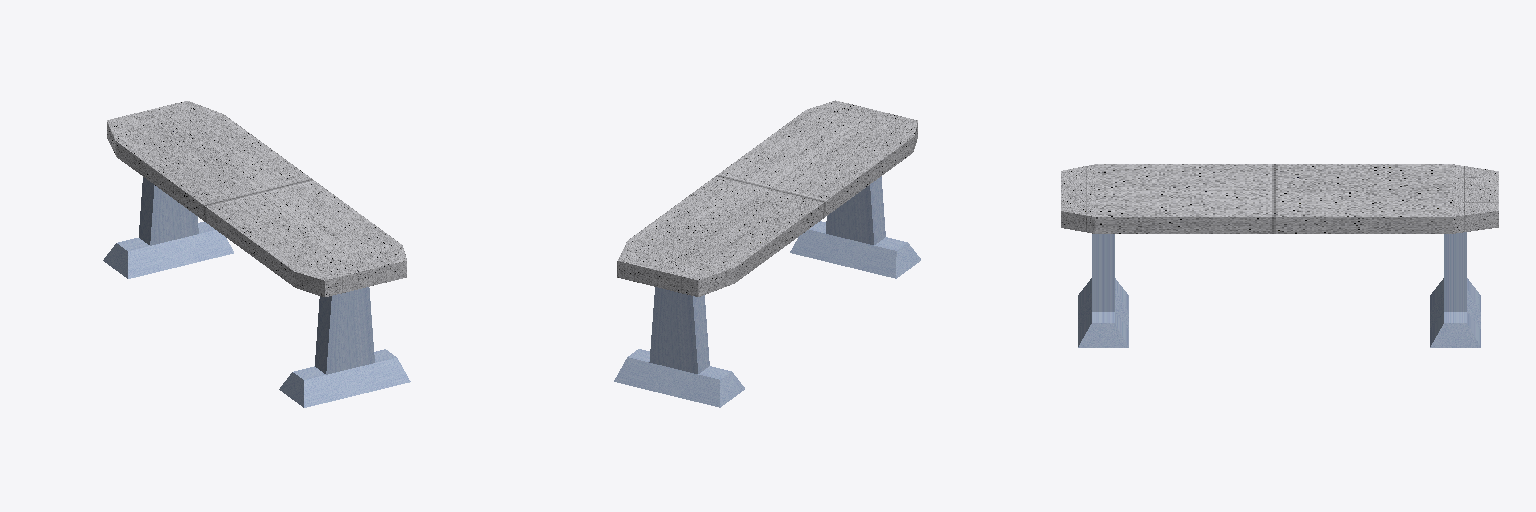
3 renders of one model, left to right at view 1: azimuth 30°, elevation 25°; view 2: azimuth 150°, elevation 25°; view 3: azimuth 270°, elevation 25°, orthographic.
Parts seen in each view (by area): view 1: Box001, Box002, Box003; view 2: Box001, Box003, Box002; view 3: Box001, Box003, Box002.
Part boxes in pixels (left/top/right/bottom): Box001: left=107, top=101, right=406, bottom=296; Box002: left=279, top=287, right=410, bottom=407; Box003: left=103, top=177, right=233, bottom=278; Box001: left=617, top=100, right=917, bottom=296; Box003: left=614, top=287, right=744, bottom=407; Box002: left=790, top=176, right=920, bottom=278; Box001: left=1061, top=164, right=1498, bottom=233; Box003: left=1430, top=232, right=1480, bottom=347; Box002: left=1078, top=234, right=1128, bottom=347.
Size of the model in its own units: 29.91 by 34.43 by 105.
Materials: 2 (2 with a texture image).